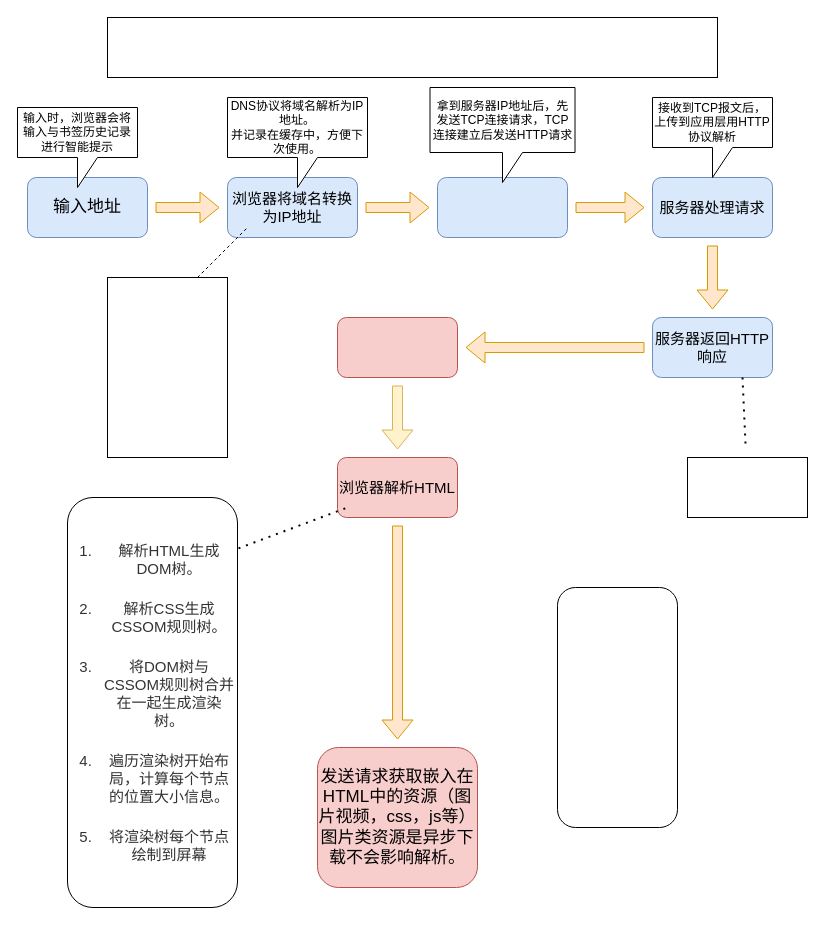
This 825x925 diagram has some shape labels left out. The centre of each missing label's shape, as x and y in pixels:
JS文件会阻塞文档的资源下载。需要等到JS文件下载并解析执行完毕才会恢复html文档的线程。 因为JS有可能会修改DOM。: the point at 617,707
处理请求，返回一个HTTP响应报文: the point at 747,487
浏览器向Web服务器发送HTTP请求: the point at 502,207
浏览器显示HTML: the point at 397,347
浏览器通过向DNS服务器发送域名，DNS服务器查询到与域名对应的IP地址，返回给服务器。 查询过程类似于快递那样一层一层向下查找: the point at 167,367
输入URL到显示的过程: the point at 412,47
